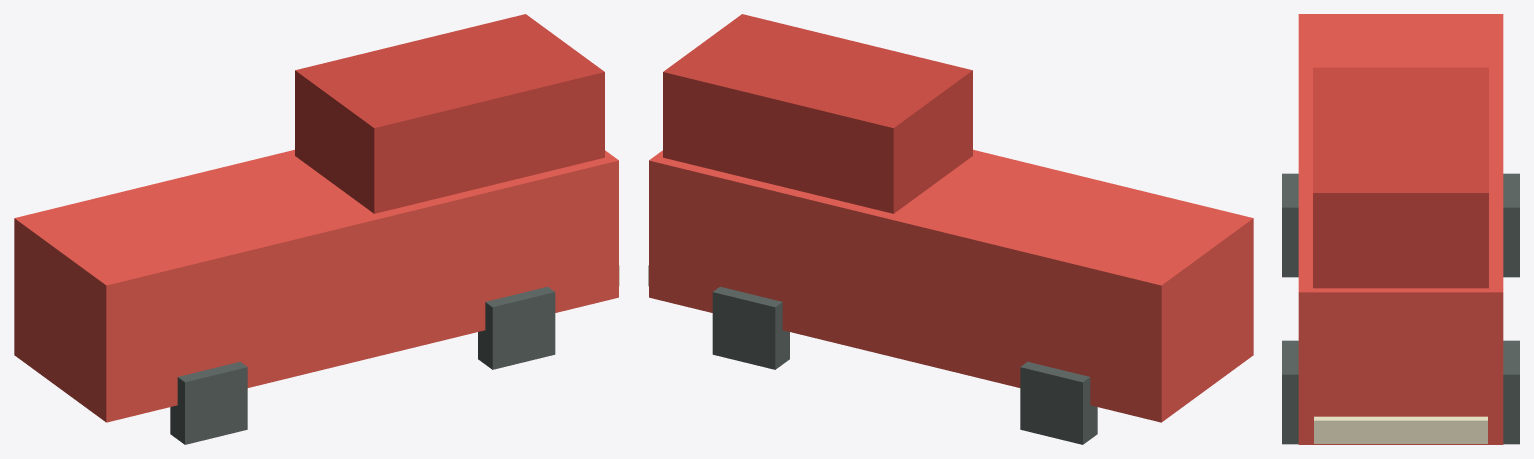
Rendered from truck.gltf.
3 views of the same model, side by side, from view 1: azimuth 30°, elevation 25°; view 2: azimuth 150°, elevation 25°; view 3: azimuth 270°, elevation 25° (orthographic). The views are drawn at different scales.
Size of the model in its own units: 9.13 by 4.31 by 3.25.
